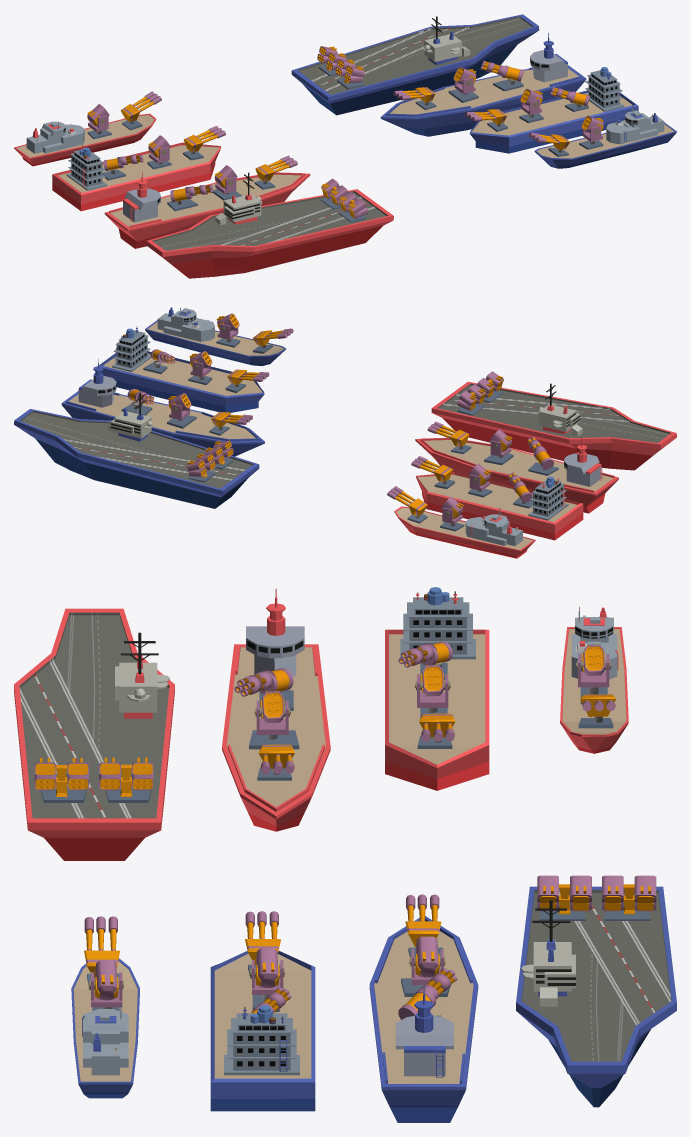
Rendered from warships4fbx.fbx.
The picture shows the model from 3 angles, top to bottom: view 1: azimuth 30°, elevation 25°; view 2: azimuth 150°, elevation 25°; view 3: azimuth 270°, elevation 25°; orthographic projection. The views are drawn at different scales.
Parts seen in each view (by area): view 1: Ship D enemy, Ship D, Ship B, Ship A. enemy, Ship B.enemy, Ship A, Ship C, Ship C.eemy, Box1672.006, Cube.007, Box1672.005, Box1672.002 (+5 smaller); view 2: Ship D, Ship D enemy, Ship A, Ship A. enemy, Ship B.enemy, Ship B, Ship C.eemy, Ship C, Box1672.006, Cube.009, Box1672.005, Box1672.002 (+6 smaller); view 3: Ship D enemy, Ship D, Ship A. enemy, Ship B, Ship A, Ship B.enemy, Ship C, Ship C.eemy, Cube.009, Cube.007, Cube.005, Box1672.001 (+8 smaller).
Part boxes in pixels (x1,y1,x2,y2): Ship D enemy: (146,172,393,278); Ship D: (291,14,539,115); Ship B: (380,33,586,136); Ship A. enemy: (52,142,221,211); Ship B.enemy: (104,172,310,248); Ship A: (469,67,638,153); Ship C: (534,104,676,168); Ship C.eemy: (14,113,156,166); Box1672.006: (120,91,161,121); Cube.007: (335,59,364,82); Box1672.005: (184,126,225,151); Box1672.002: (255,155,297,180); Ship D: (14,393,259,508); Ship D enemy: (431,381,676,470); Ship A: (99,326,264,412); Ship A. enemy: (416,472,583,540); Ship B.enemy: (415,437,618,513); Ship B: (61,358,264,456); Ship C.eemy: (394,506,535,558); Ship C: (145,307,286,365); Box1672.006: (387,486,427,516); Cube.009: (187,453,215,476); Box1672.005: (411,456,452,481); Box1672.002: (427,421,469,446); Ship D enemy: (14,608,174,860); Ship D: (516,886,676,1107); Ship A. enemy: (385,587,489,790); Ship B: (369,916,478,1122); Ship A: (210,951,315,1111); Ship B.enemy: (222,588,330,831); Ship C: (71,958,139,1098); Ship C.eemy: (560,606,628,753); Cube.009: (602,875,656,911); Cube.007: (537,875,591,911); Cube.005: (34,758,88,790); Box1672.001: (84,916,119,977).
Bounding box in the file's own units: 22.92 × 4.13 × 13.96.
